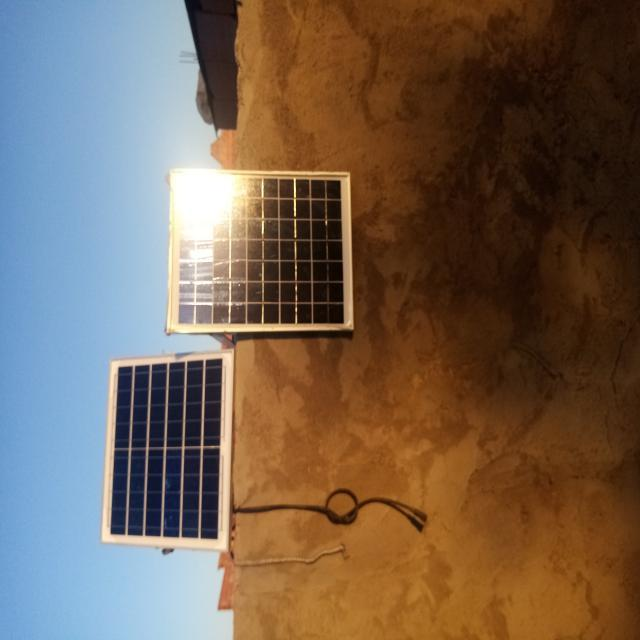no faulty: (168, 171, 353, 328), (102, 352, 232, 553)
